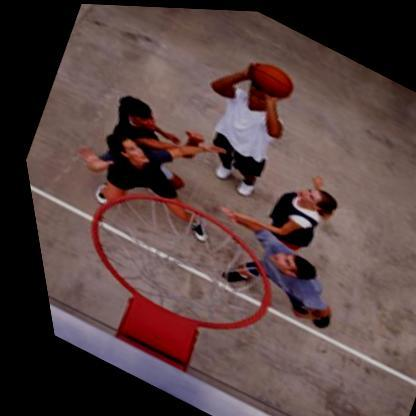basketball: (239, 52, 300, 100)
rim: (48, 162, 291, 360)
